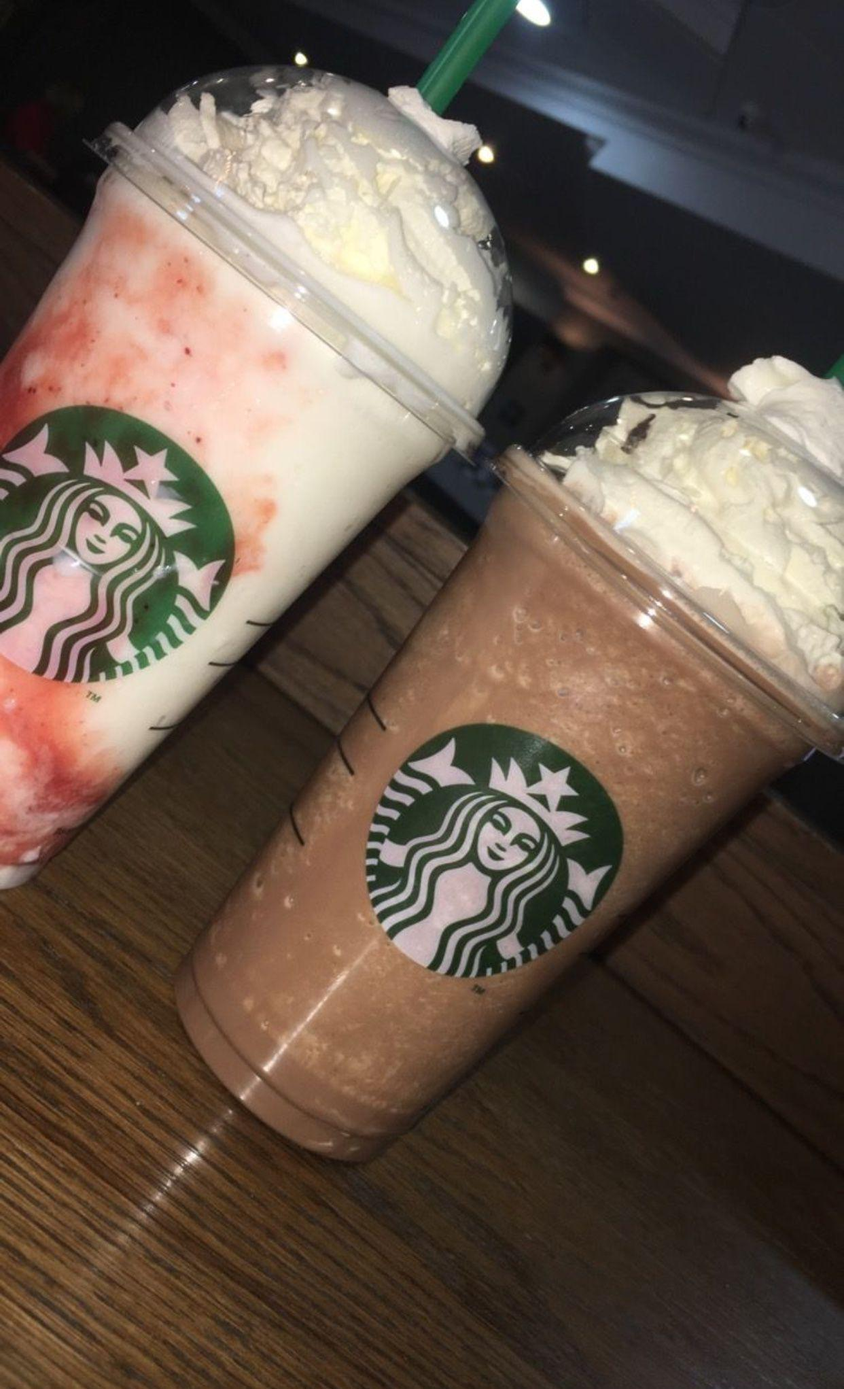cup-disposable: (175, 382, 843, 1161), (2, 61, 509, 895)
